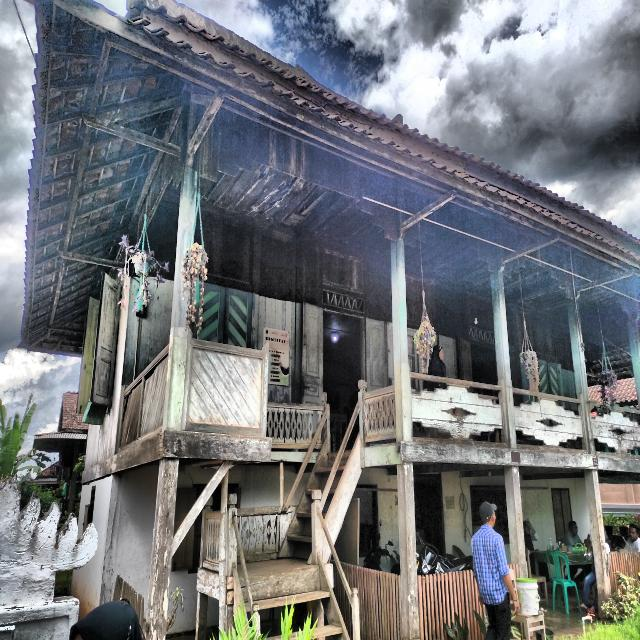column: (162, 167, 198, 432), (145, 457, 179, 640), (505, 466, 532, 638), (584, 469, 614, 618), (391, 239, 413, 442), (491, 272, 516, 444), (397, 462, 420, 640), (568, 301, 595, 450), (628, 321, 640, 411)
door: (322, 311, 366, 449), (414, 474, 446, 570), (471, 342, 501, 408)
ornamen: (186, 339, 268, 438), (118, 343, 169, 450), (412, 386, 502, 439), (514, 399, 583, 446), (266, 402, 323, 449), (237, 507, 281, 562), (592, 411, 640, 453), (365, 385, 395, 441), (202, 513, 224, 574)
roof: (16, 0, 639, 357)
stair: (277, 432, 362, 563), (236, 565, 350, 640)
wall: (85, 193, 590, 470), (73, 462, 604, 638)
window: (76, 273, 122, 413), (193, 281, 253, 348), (470, 485, 510, 543), (551, 488, 574, 541), (536, 359, 559, 396)
